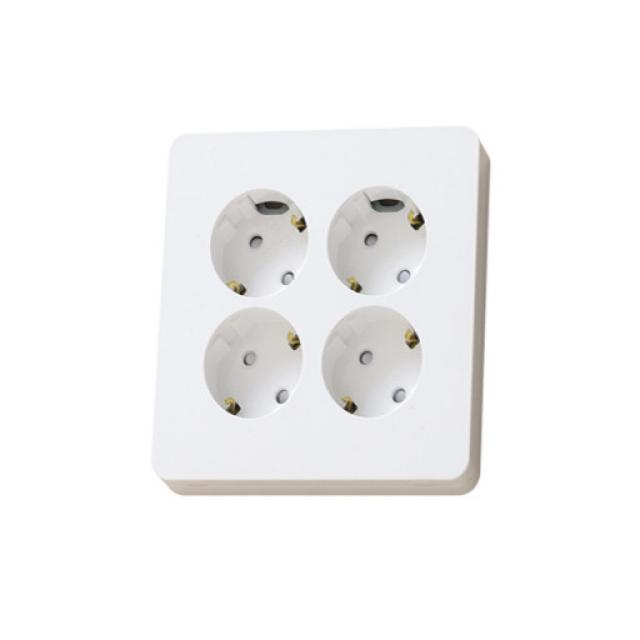typeb: (136, 90, 536, 521)
